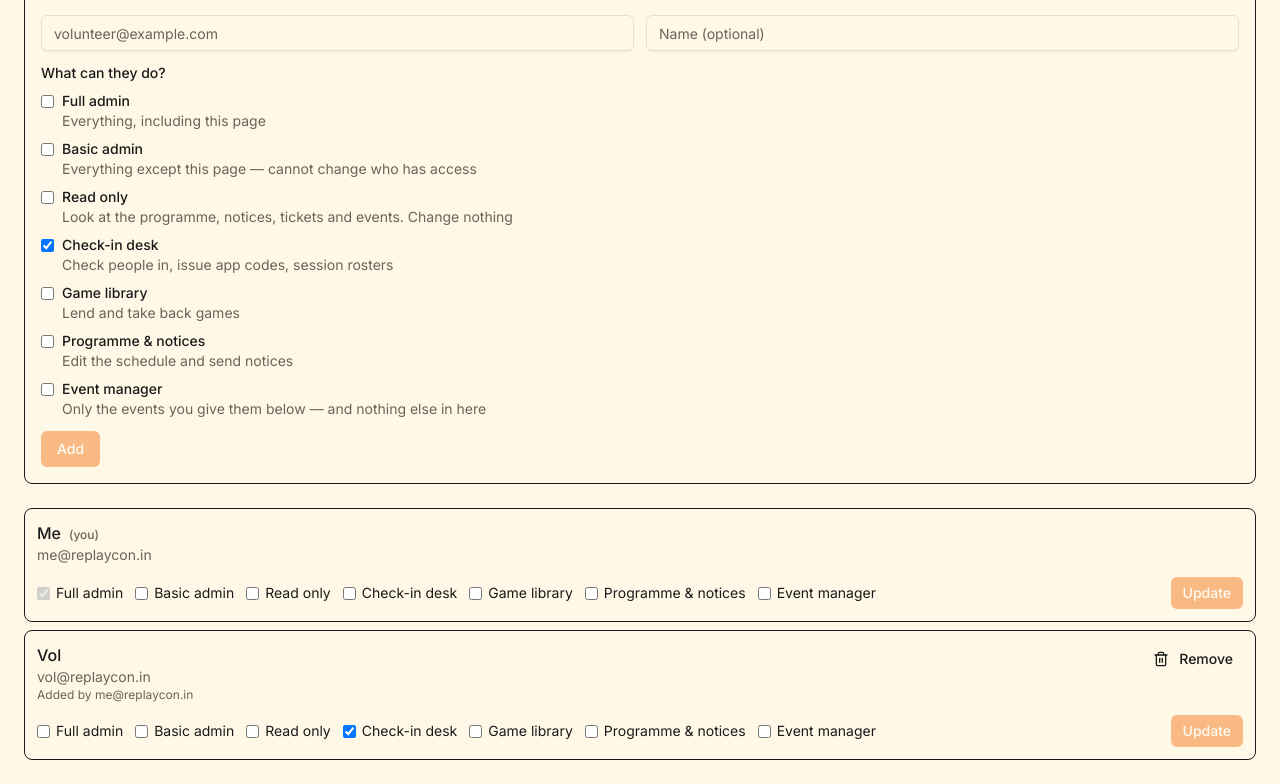
it: the update button › offers a way to abandon an edit
This screenshot has width=1280, height=784.
(page scrolled)
Check: the text "Vol" is shown, box [37,645,61,665]
Click the 2nd checkbox labelled "Game library" at point(476, 731), box [469,724,482,738]
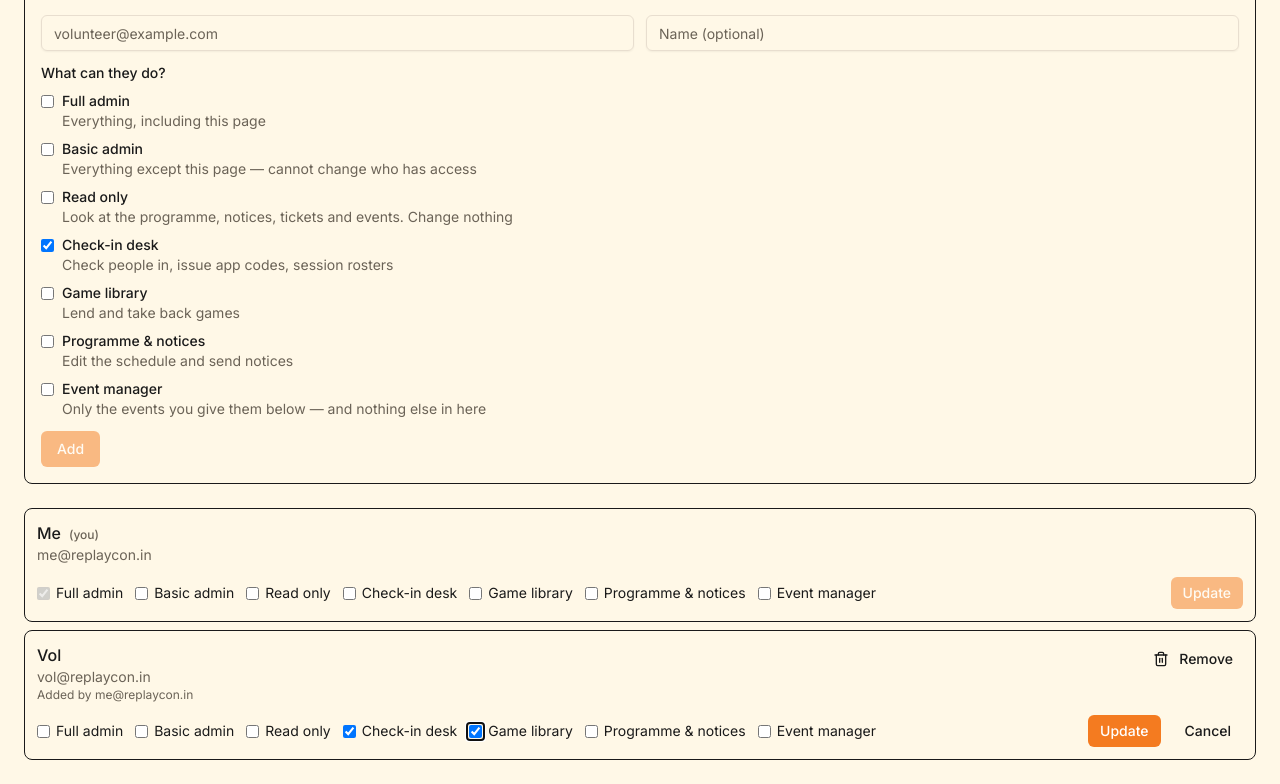
Click the button "Cancel" at point(1208, 731), box [1172,715,1243,747]
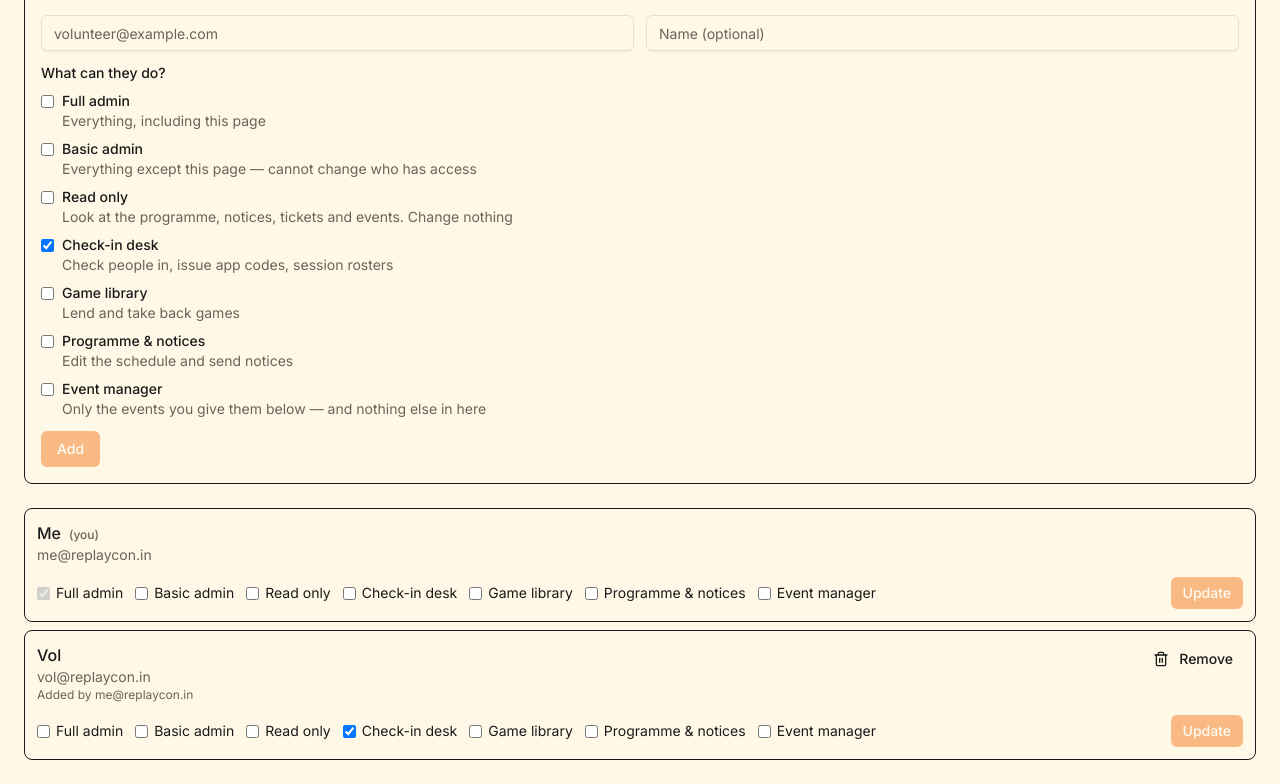
Check: the 2nd checkbox labelled "Game library" is not checked, box [469,724,482,738]
Check: the 2nd button "Update" is disabled, box [1170,715,1243,747]
